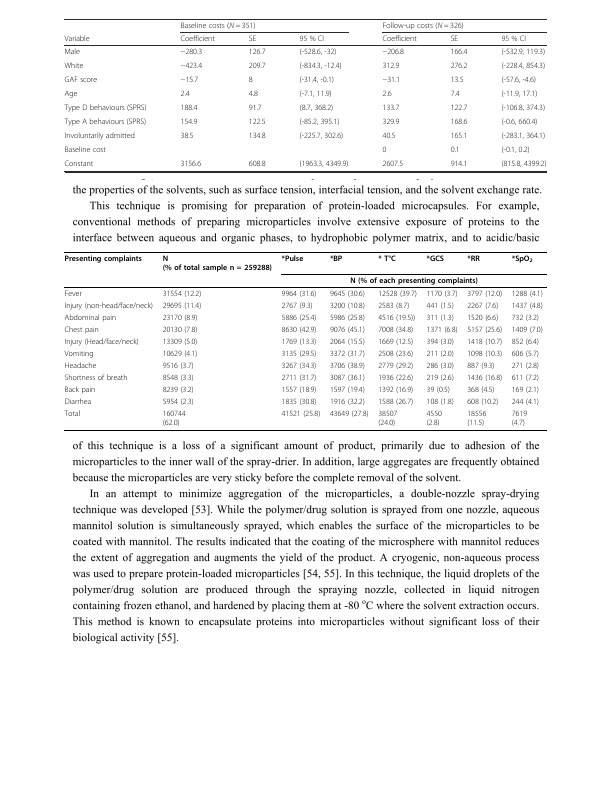borderless: (63, 250, 547, 430), (63, 17, 546, 171)
cell: (162, 254, 273, 272), (349, 276, 479, 286), (64, 301, 154, 311), (63, 103, 147, 113), (63, 117, 147, 127), (64, 337, 140, 347), (381, 21, 465, 30), (63, 131, 136, 141), (64, 254, 143, 263), (180, 21, 256, 30), (64, 373, 128, 383), (64, 313, 117, 323), (299, 159, 349, 169), (500, 159, 547, 169), (500, 47, 546, 57), (500, 61, 546, 71), (500, 103, 546, 113), (500, 131, 546, 141), (299, 131, 344, 141), (63, 145, 107, 155), (162, 409, 186, 427), (299, 61, 342, 71), (299, 117, 340, 127), (377, 289, 418, 299), (162, 289, 202, 299), (162, 301, 202, 311), (377, 313, 416, 323), (299, 47, 337, 57), (500, 89, 538, 99), (500, 117, 538, 127), (377, 409, 398, 427), (466, 409, 487, 427), (381, 34, 418, 44), (500, 75, 537, 85), (329, 289, 366, 299), (466, 289, 503, 299), (329, 301, 366, 311), (329, 313, 366, 323), (329, 325, 366, 335), (377, 325, 414, 335), (466, 325, 503, 335), (329, 337, 366, 347), (377, 337, 414, 347), (466, 337, 503, 347), (329, 349, 366, 359), (377, 349, 414, 359), (466, 349, 503, 359), (329, 361, 366, 371), (377, 361, 414, 371), (329, 373, 366, 383), (377, 373, 414, 383), (466, 373, 503, 383), (180, 34, 216, 44), (299, 75, 335, 85), (281, 289, 317, 299), (162, 313, 198, 323), (281, 313, 317, 323), (64, 325, 100, 335), (162, 325, 198, 335), (281, 325, 317, 335), (162, 337, 198, 347), (281, 337, 317, 347), (162, 349, 198, 359), (281, 349, 317, 359), (281, 361, 317, 371), (281, 373, 317, 383), (281, 409, 321, 418), (329, 409, 369, 418), (63, 75, 98, 85), (299, 103, 334, 113), (299, 89, 333, 99), (329, 385, 366, 394), (377, 385, 414, 394), (329, 397, 366, 406), (377, 397, 414, 406), (425, 289, 458, 299), (511, 289, 544, 299), (281, 301, 314, 311), (377, 301, 410, 311), (466, 301, 499, 311), (511, 301, 544, 311), (466, 313, 499, 323), (425, 325, 458, 335), (511, 325, 544, 335), (64, 361, 97, 371), (162, 361, 195, 371), (162, 373, 195, 383), (281, 385, 317, 394), (281, 397, 317, 406), (425, 409, 443, 427), (500, 145, 531, 155), (63, 159, 94, 169), (511, 409, 528, 427), (425, 301, 455, 311), (425, 313, 455, 323), (425, 337, 455, 347), (64, 349, 94, 359), (425, 349, 455, 359), (425, 361, 455, 371), (425, 373, 455, 383), (162, 385, 195, 394), (162, 397, 195, 406), (466, 397, 499, 406), (511, 313, 540, 323), (511, 337, 540, 347), (511, 349, 540, 359), (466, 361, 495, 371), (511, 361, 540, 371), (511, 373, 540, 383), (64, 385, 96, 394), (63, 34, 90, 44), (500, 34, 527, 44), (425, 397, 455, 406), (466, 385, 495, 394), (511, 385, 540, 394), (511, 397, 540, 406), (299, 34, 325, 44), (64, 397, 92, 406), (381, 47, 405, 57), (425, 385, 451, 394), (180, 47, 203, 57), (180, 61, 203, 71), (381, 159, 404, 169), (511, 254, 534, 264), (180, 159, 202, 169), (63, 61, 84, 71), (281, 254, 304, 263), (381, 75, 401, 85), (381, 61, 400, 71), (180, 75, 199, 85), (381, 103, 400, 113), (381, 117, 400, 127), (64, 289, 83, 299), (63, 47, 81, 57), (248, 47, 266, 57), (450, 47, 468, 57), (248, 61, 266, 71), (450, 61, 468, 71), (180, 103, 198, 113), (450, 103, 468, 113), (180, 117, 198, 127), (248, 117, 266, 127), (450, 117, 468, 127), (248, 131, 266, 141), (450, 131, 468, 141), (248, 159, 266, 169), (450, 159, 468, 169), (377, 254, 397, 263), (425, 254, 445, 263), (64, 409, 81, 418), (63, 89, 78, 99), (248, 103, 263, 113), (381, 131, 396, 141), (450, 75, 464, 85), (180, 131, 194, 141), (466, 254, 481, 263), (329, 254, 343, 263), (180, 89, 191, 99), (248, 89, 259, 99), (381, 89, 392, 99), (450, 89, 461, 99), (450, 145, 461, 155), (248, 34, 257, 44), (450, 34, 459, 44), (248, 75, 254, 85), (381, 145, 387, 155)
